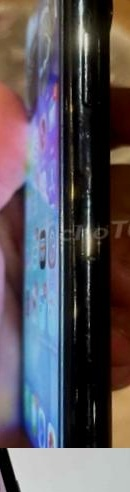scratch: (61, 182, 128, 367), (64, 380, 123, 448), (59, 103, 111, 179), (63, 0, 113, 28), (91, 33, 113, 56)
